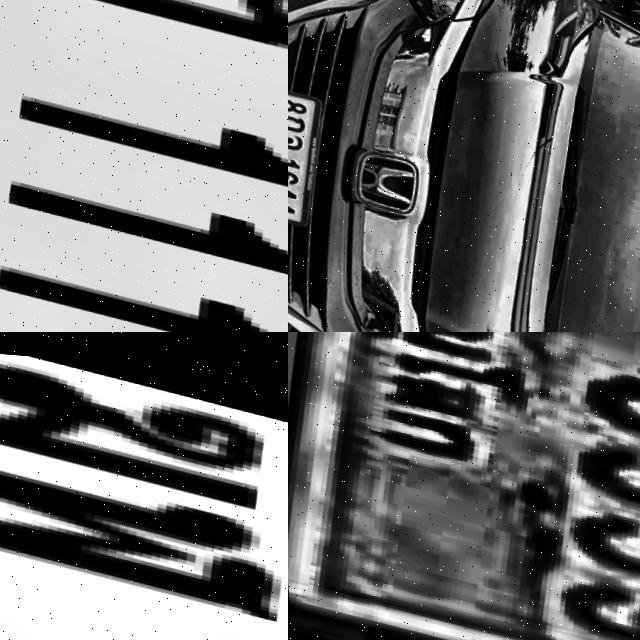license-plate: (288, 332, 640, 640), (0, 0, 288, 332), (0, 332, 288, 640), (288, 73, 324, 227)
